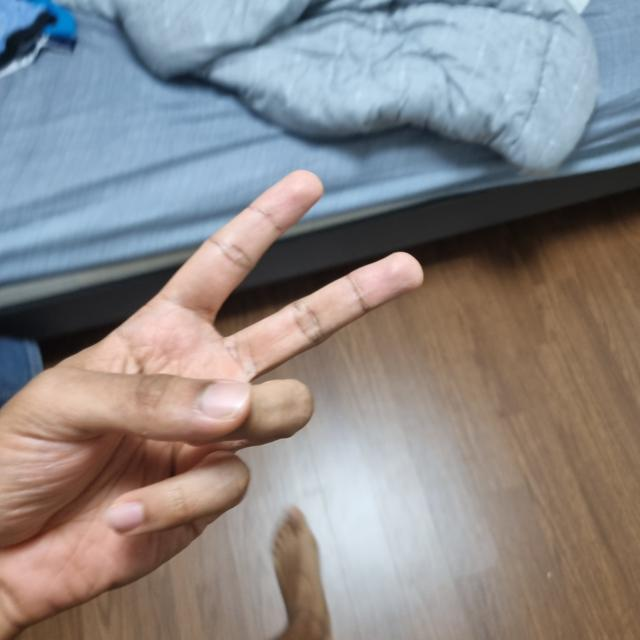Scissors: (0, 176, 409, 630)
